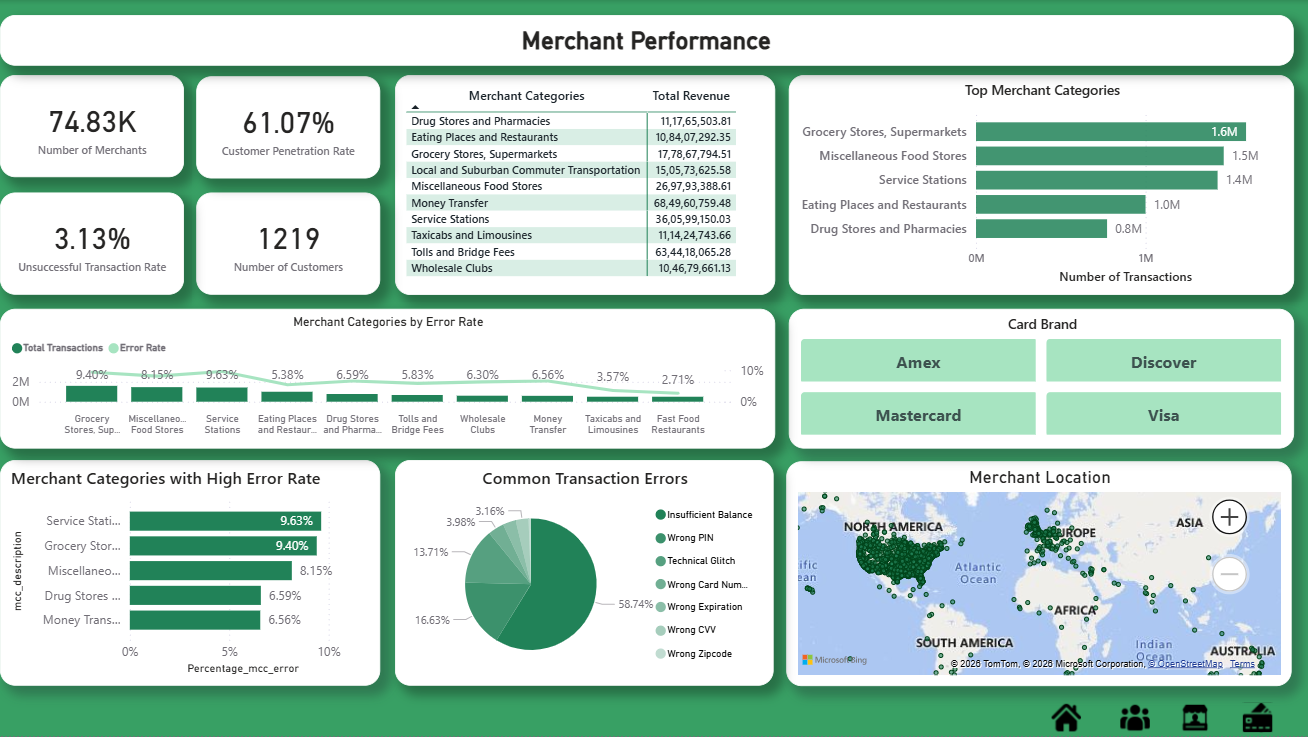

The dashboard page shown, as its layout file describes it:
{"tool":"powerbi","page":{"name":"Merchant","canvas":[1280,720],"ordinal":1},"visuals":[{"type":"pivotTable","fields":{"Rows":["mcc.mcc_description"],"Values":["Sum(transactions.Revenue)"]},"box":[386.5,73.8,371.7,215.4],"z":0},{"type":"map","title":"Merchant Location","fields":{"Category":["merchant.merchant_city"]},"box":[769.2,451.7,494.8,220.3],"z":1000},{"type":"card","fields":{"Values":["CountNonNull(merchant.merchant_id)"]},"box":[0,73.8,180,100],"z":2000},{"type":"card","fields":{"Values":["Count(transactions.client_id)"]},"box":[192,188.3,179.7,99.7],"z":3000},{"type":"card","fields":{"Values":["Report_measure.Customer Penetration %"]},"box":[192,75.1,179.7,99.7],"z":4000},{"type":"barChart","title":"Top Merchant Categories","fields":{"Y":["Sum(transactions.num_of_transactions)"],"Category":["mcc.mcc_description"]},"box":[771,73.8,494.8,215.4],"z":5000},{"type":"actionButton","box":[1025.2,683.1,43.1,36.9],"z":6000},{"type":"actionButton","box":[1091.7,683.1,36.9,36.9],"z":7000},{"type":"actionButton","box":[1150.8,683.1,43.1,36.9],"z":8000},{"type":"actionButton","box":[1212.3,683.1,36.9,36.9],"z":9000},{"type":"card","fields":{"Values":["transactions.Error %"]},"box":[0,188.3,180,100],"z":10000},{"type":"advancedSlicerVisual","title":"Card Brand","fields":{"Values":["cards_data.card_brand"]},"box":[772,302,494.8,137],"z":11000},{"type":"clusteredBarChart","title":"Merchant Categories with High Error Rate","fields":{"Category":["mcc.mcc_description"],"Y":["Report_measure.Percentage_mcc_error"]},"box":[0,450.1,371.9,220.9],"z":12000},{"type":"lineStackedColumnComboChart","title":"Merchant Categories by Error Rate ","fields":{"Category":["mcc.mcc_description"],"Y":["Sum(transactions.num_of_transactions)"],"Y2":["Report_measure.Percentage_mcc_error"]},"box":[0,302,758.2,137],"z":13000},{"type":"textbox","box":[0,14.8,1265.2,49.2],"z":14000},{"type":"pieChart","title":"Common Transaction Errors","fields":{"Category":["Error_merchant.error_names"],"Y":["CountNonNull(Error_merchant.merchant_id)"]},"box":[387,450.1,370.5,220.9],"z":15000}]}

Visuals, with their boxes in screenshot pixels (x1, y1, x2, y2), scaled from the page's 1280x720 canvas onto the 1308x737 screenshot:
pivotTable - mcc.mcc_description x Sum(transactions.Revenue): [395,76,775,296]
"Merchant Location" map: [786,462,1292,688]
card - CountNonNull(merchant.merchant_id): [0,76,184,178]
card - Count(transactions.client_id): [196,193,380,295]
card - Report_measure.Customer Penetration %: [196,77,380,179]
"Top Merchant Categories" barChart: [788,76,1293,296]
actionButton: [1048,699,1092,736]
actionButton: [1116,699,1153,736]
actionButton: [1176,699,1220,736]
actionButton: [1239,699,1277,736]
card - transactions.Error %: [0,193,184,295]
"Card Brand" advancedSlicerVisual: [789,309,1295,449]
"Merchant Categories with High Error Rate" clusteredBarChart: [0,461,380,687]
"Merchant Categories by Error Rate " lineStackedColumnComboChart: [0,309,775,449]
textbox: [0,15,1293,66]
"Common Transaction Errors" pieChart: [395,461,774,687]
